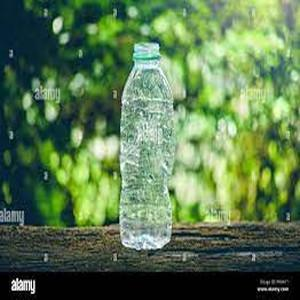Plastic: (118, 40, 180, 249)
